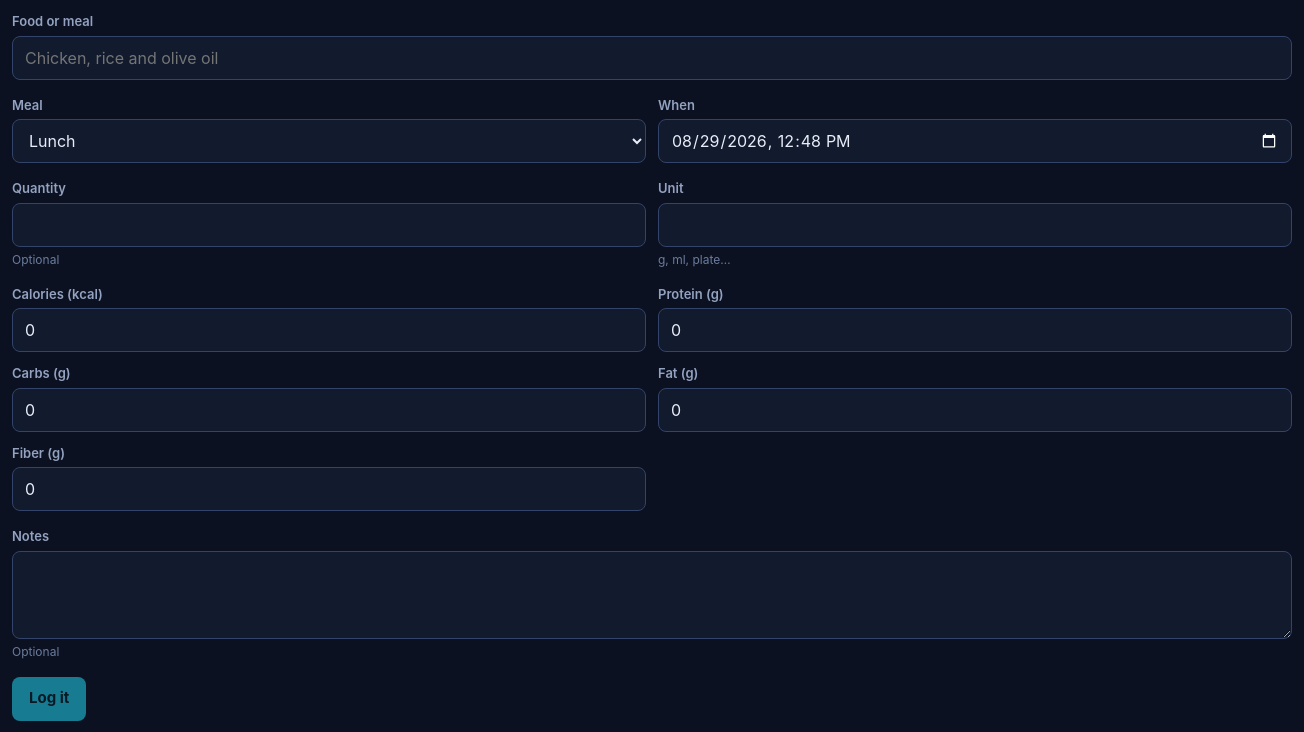
Test: ManualEntryForm › keeps the submit button disabled until a name is entered
Expected: the button "Log it" is disabled, [12, 676, 86, 720]
Type "Oats" into the field labelled "Food or meal". click: (652, 58)
box: [12, 36, 1292, 80]
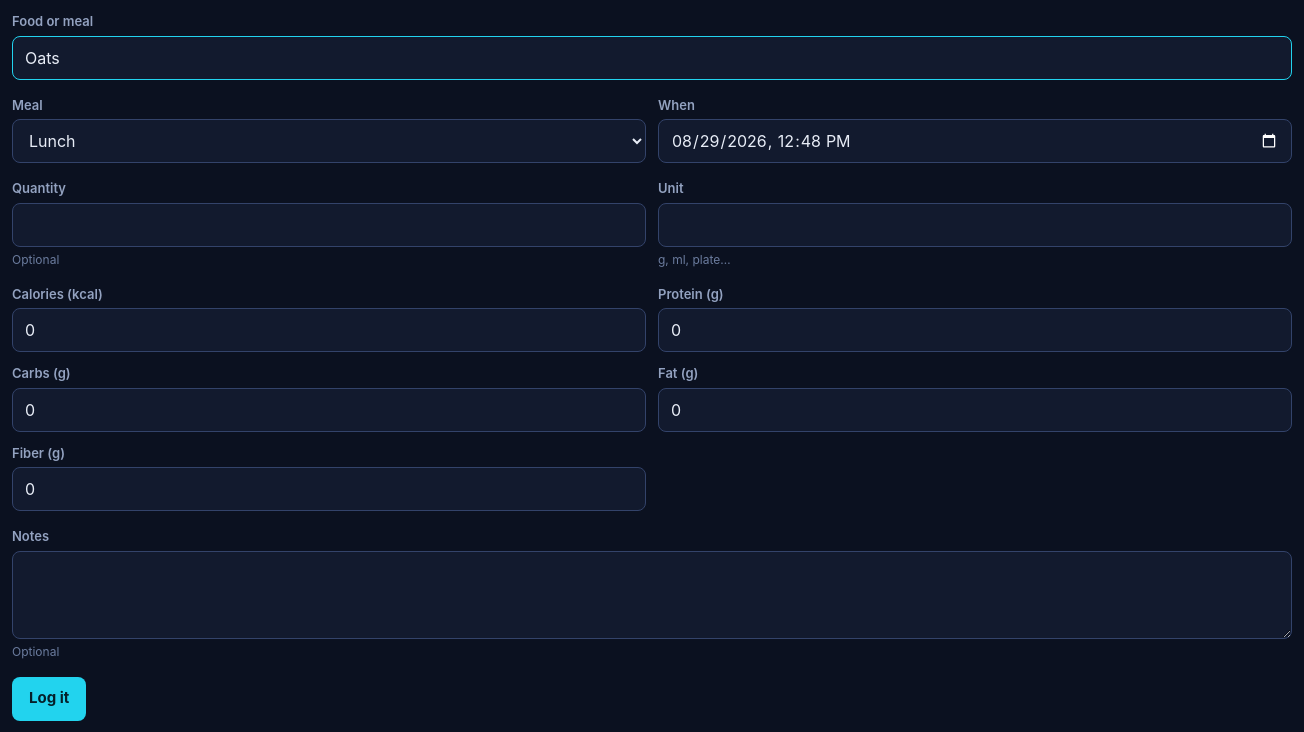
Now the button "Log it" is enabled, box [12, 676, 86, 720]
